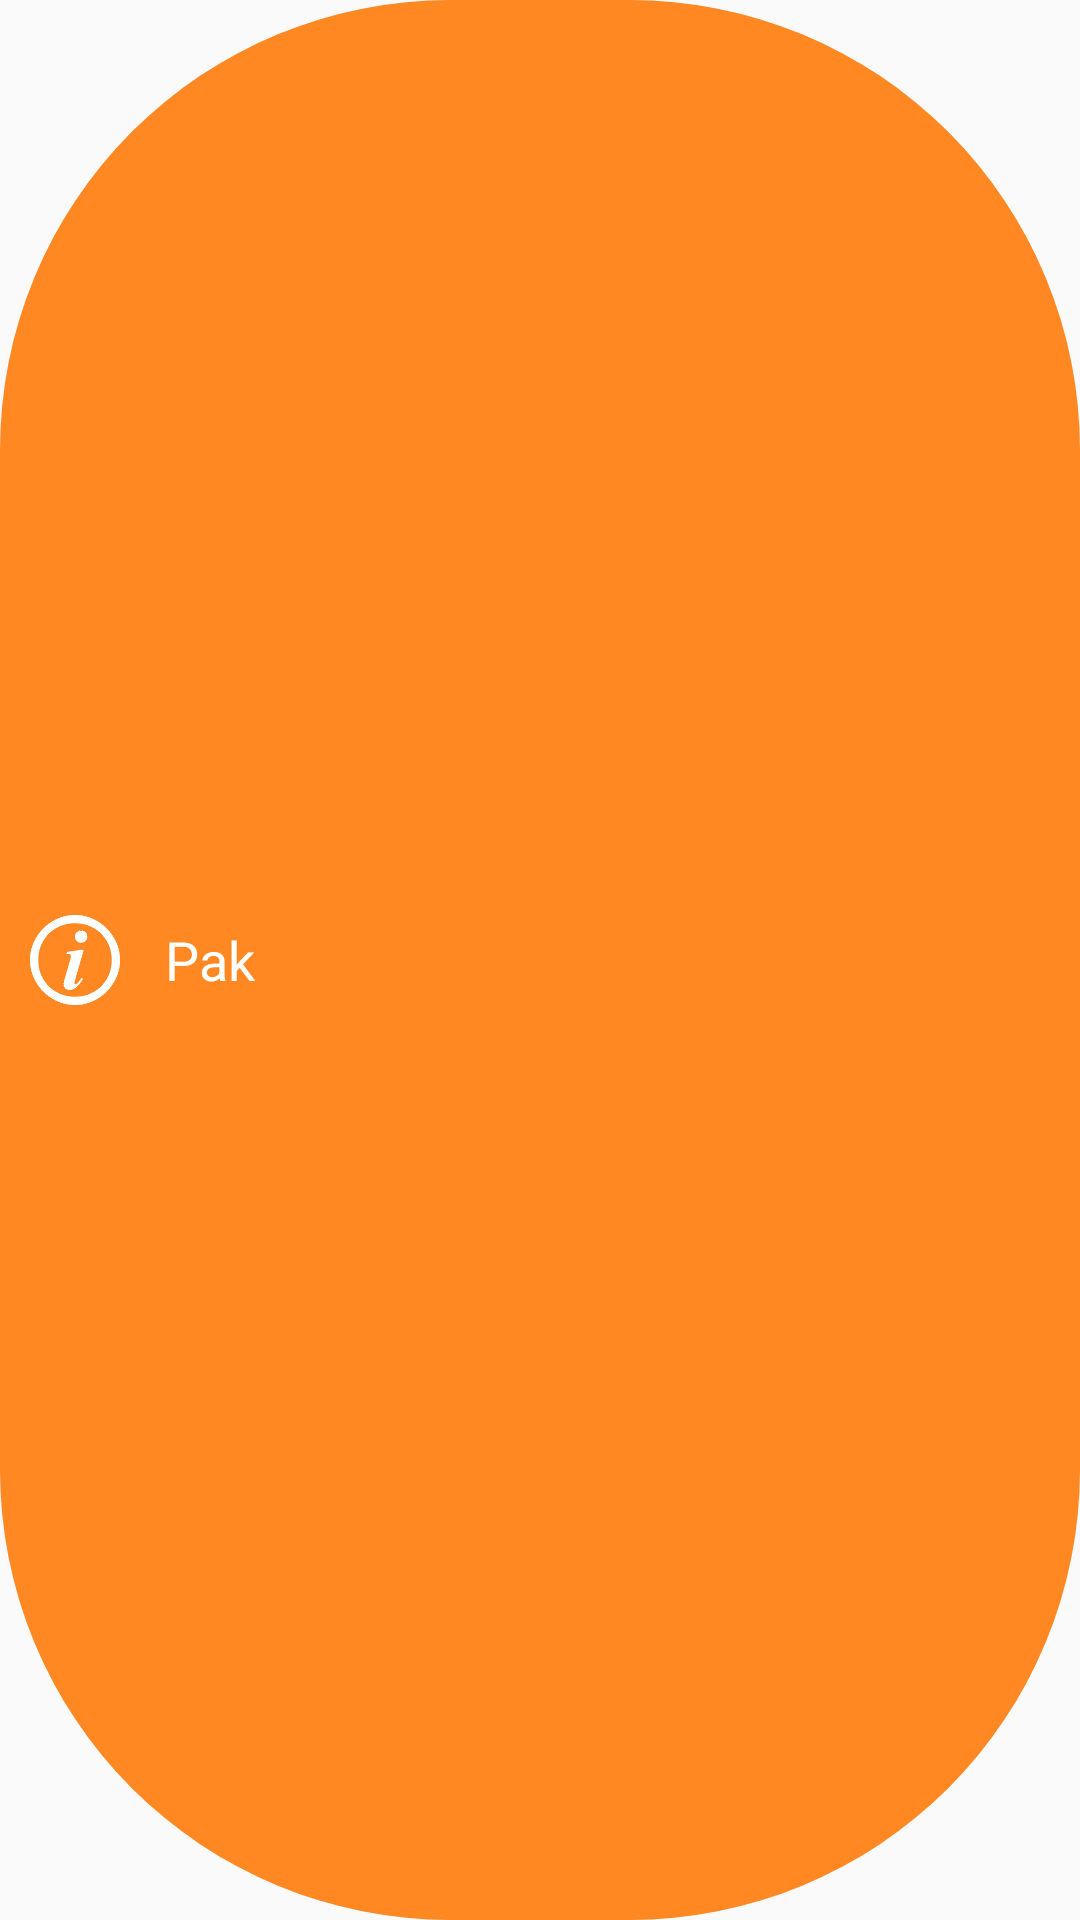

Where to tap for icons on this 1080px×1920px app screen, as point (x, y):
info: point (75, 960)
